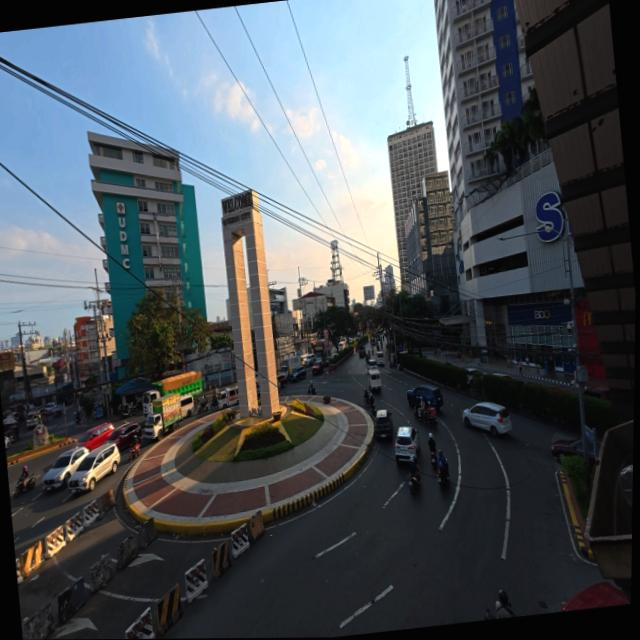car: (69, 443, 120, 492), (43, 446, 88, 491), (562, 581, 629, 611), (463, 402, 511, 436), (407, 384, 443, 411), (78, 423, 114, 450), (394, 426, 419, 463), (109, 423, 142, 450), (375, 410, 393, 440), (587, 438, 601, 466), (584, 387, 610, 400), (466, 367, 482, 385), (310, 357, 324, 376), (290, 366, 306, 382), (277, 372, 288, 388), (492, 372, 513, 379), (305, 354, 316, 367), (322, 353, 330, 367), (45, 403, 56, 413), (368, 358, 378, 369), (359, 345, 367, 357), (4, 436, 11, 448), (370, 338, 376, 346), (333, 350, 338, 359)
motorcycle: (15, 476, 37, 498), (422, 406, 438, 430), (437, 467, 449, 490), (128, 439, 140, 461), (409, 475, 420, 494), (121, 404, 133, 418), (414, 404, 424, 420), (208, 392, 218, 408), (198, 397, 208, 413), (506, 602, 515, 616), (430, 452, 437, 469), (364, 395, 374, 406), (307, 385, 317, 395), (75, 412, 81, 424), (372, 403, 377, 417)
trucks: (143, 371, 202, 417), (145, 393, 182, 439), (280, 356, 301, 378)
vans: (215, 384, 239, 409), (181, 395, 195, 418), (368, 368, 381, 391), (27, 413, 41, 428), (378, 351, 385, 367)
